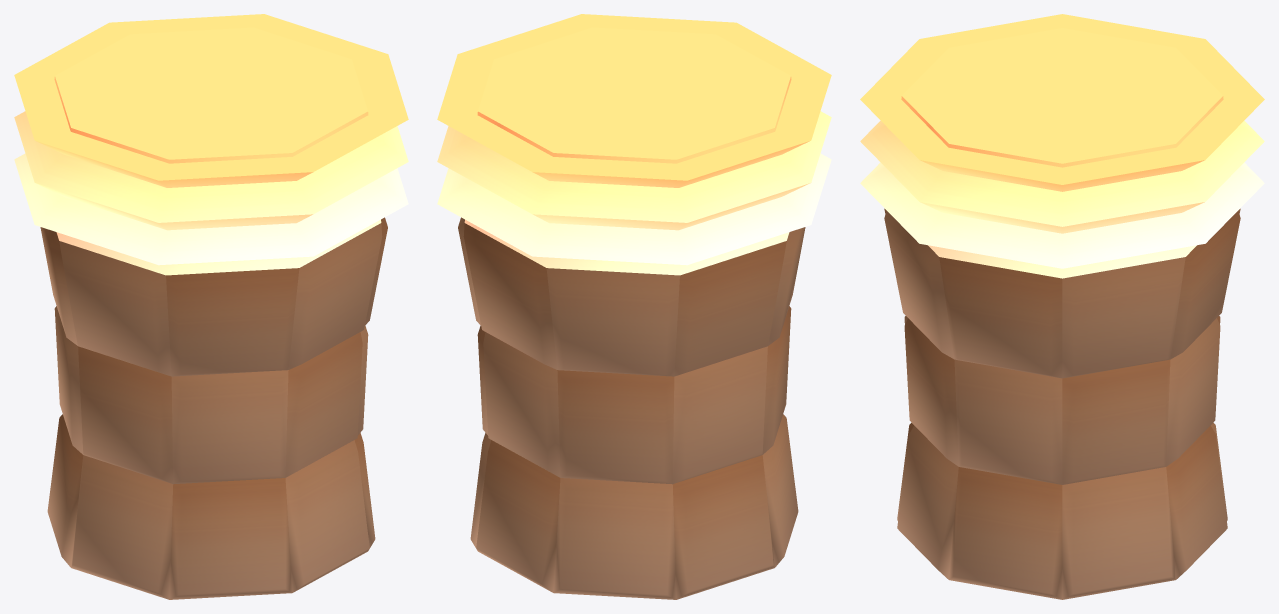
File: wood_grip_096_004.glb
3 renders of one model, left to right at view 1: azimuth 30°, elevation 25°; view 2: azimuth 150°, elevation 25°; view 3: azimuth 270°, elevation 25°, orthographic.
Visible parts, largest first — view 1: wood_grip_096.004; view 2: wood_grip_096.004; view 3: wood_grip_096.004.
Part boxes in pixels (x1,y1,x2,y2): wood_grip_096.004: (14, 14, 408, 599); wood_grip_096.004: (437, 14, 831, 599); wood_grip_096.004: (860, 14, 1264, 599).
Bounding box in the file's own units: 2.52 × 3 × 2.52.
1 material, 1 textured.
